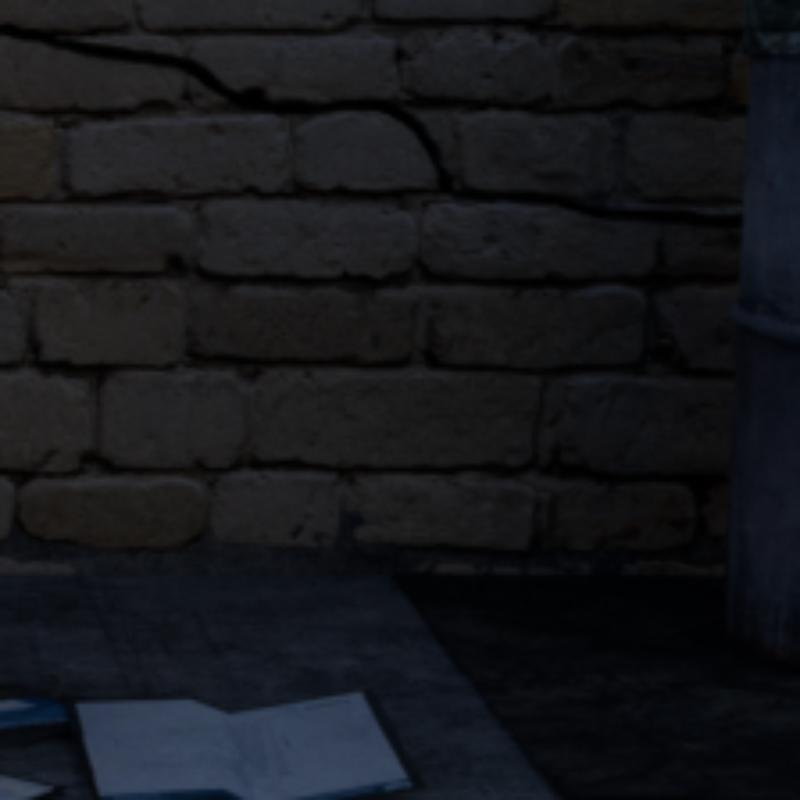crack: (0, 25, 739, 229)
